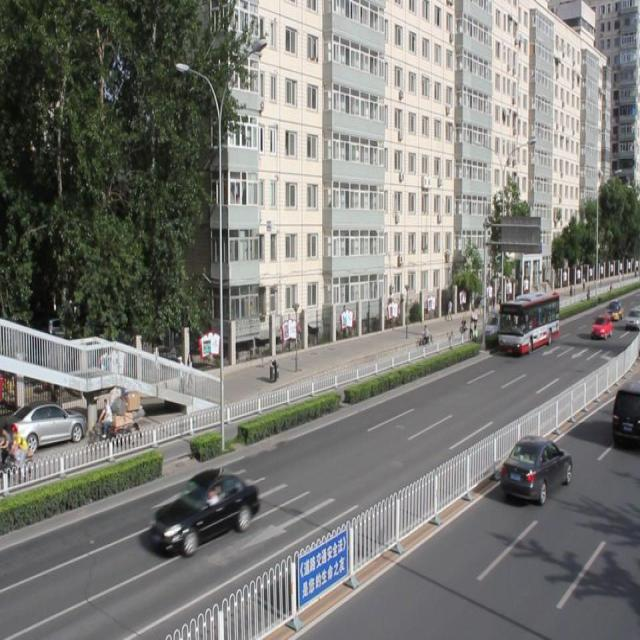car: (149, 466, 259, 554), (500, 432, 572, 503), (610, 369, 640, 445)
